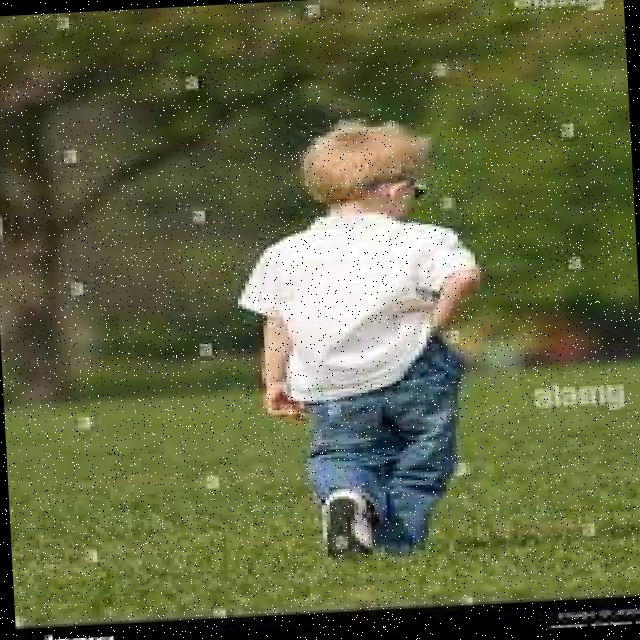Person: (236, 113, 488, 562)
